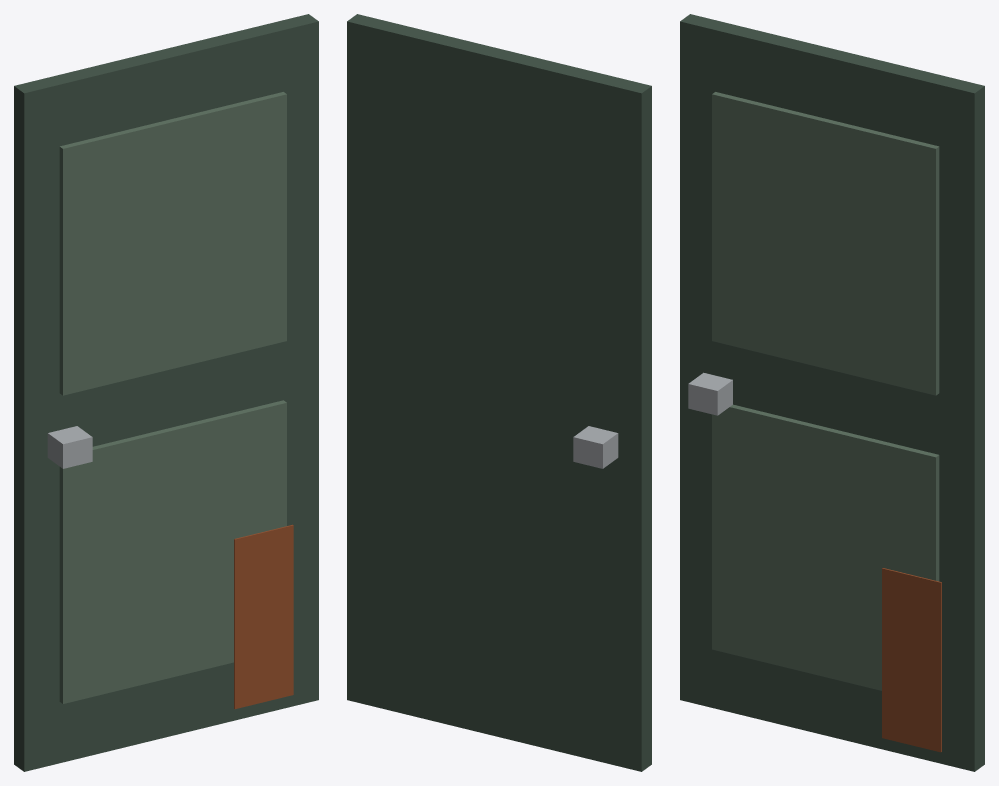
The model's file is SM_Bld_Metal_Door_01.glb.
3 renders of one model, left to right at view 1: azimuth 30°, elevation 25°; view 2: azimuth 150°, elevation 25°; view 3: azimuth 330°, elevation 25°, orthographic.
Visible parts, largest first — view 1: SM_Bld_Metal_Door_01; view 2: SM_Bld_Metal_Door_01; view 3: SM_Bld_Metal_Door_01.
Boxes of the visible parts, <box> form: SM_Bld_Metal_Door_01: <box>14,14,318,771</box>; SM_Bld_Metal_Door_01: <box>347,14,651,771</box>; SM_Bld_Metal_Door_01: <box>680,14,984,771</box>.
Bounding box in the file's own units: 1 × 2.2 × 0.24.
1 material, 1 textured.
